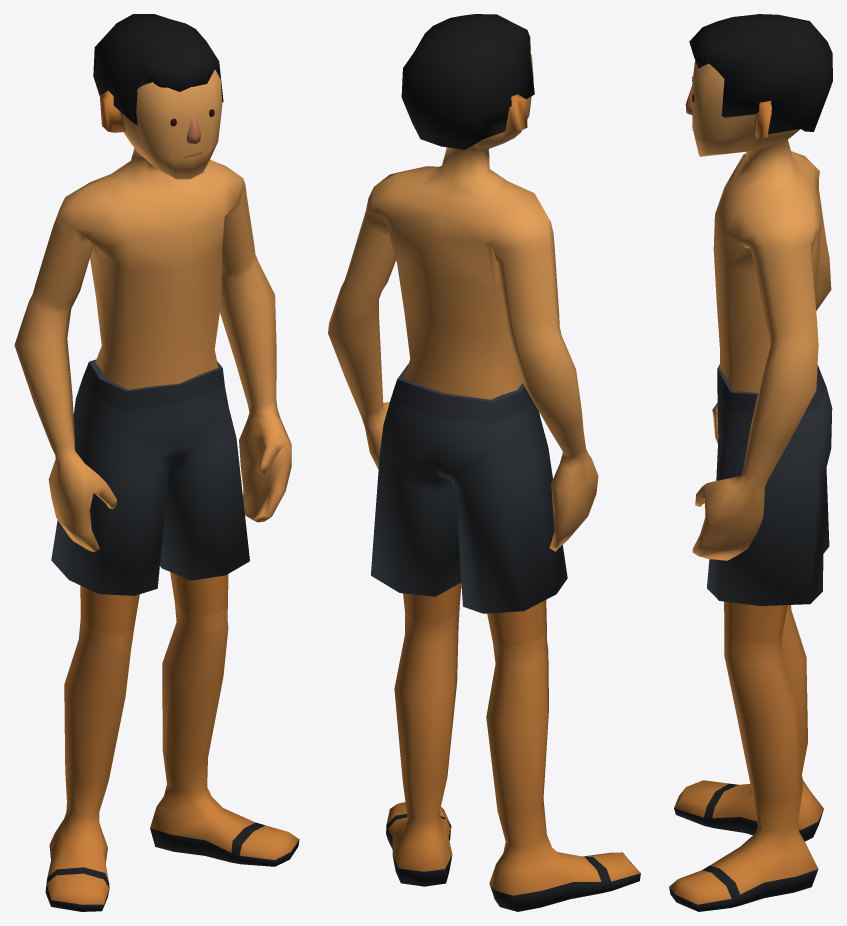
The model's file is SM_BG_NPC_05.fbx.
3 renders of one model, left to right at view 1: azimuth 30°, elevation 25°; view 2: azimuth 150°, elevation 25°; view 3: azimuth 270°, elevation 25°, orthographic. The views are drawn at different scales.
Visible parts, largest first — view 1: SM_BG_NPC_05; view 2: SM_BG_NPC_05; view 3: SM_BG_NPC_05.
Boxes of the visible parts, left/top/right/bottom form: SM_BG_NPC_05: left=14, top=14, right=299, bottom=911; SM_BG_NPC_05: left=328, top=14, right=640, bottom=911; SM_BG_NPC_05: left=669, top=14, right=832, bottom=911.
Size of the model in its own units: 0.5721 by 1.75 by 0.3073.
